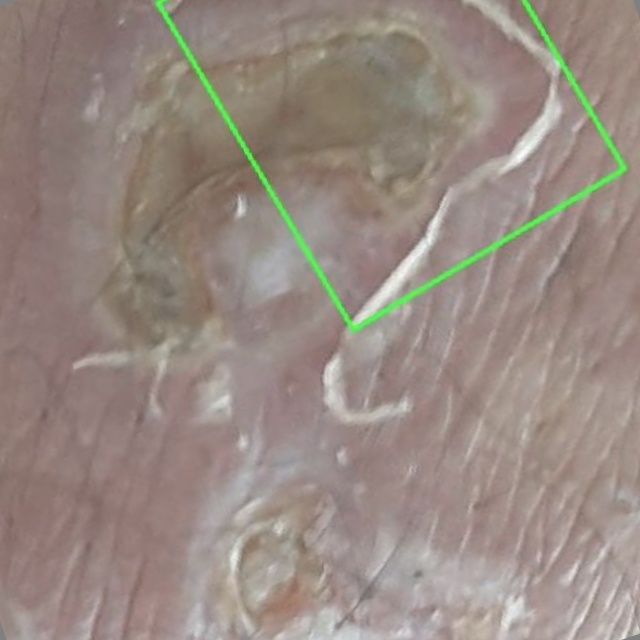Contact Dermatitis: (158, 0, 625, 329)
